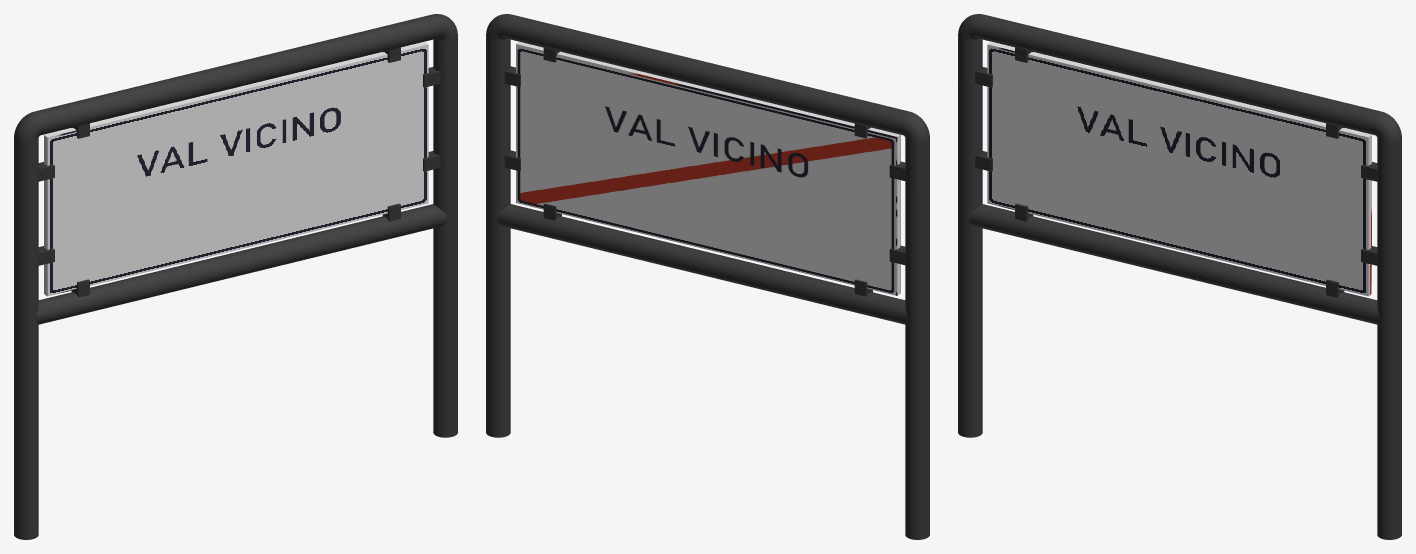
File: ortsschild_vicino.glb
The picture shows the model from 3 angles, left to right: view 1: azimuth 30°, elevation 25°; view 2: azimuth 150°, elevation 25°; view 3: azimuth 330°, elevation 25°; orthographic projection.
Parts seen in each view (by area): view 1: Plane, Cylinder, Cube, Cube.004; view 2: Plane.001, Cylinder, Cube, Cube.004; view 3: Plane, Cylinder, Cube, Cube.004.
Boxes of the visible parts, x1,y1,x2,y2 form: Plane: [48, 46, 427, 295]; Cylinder: [14, 14, 457, 539]; Cube: [44, 42, 428, 296]; Cube.004: [38, 47, 440, 297]; Plane.001: [516, 46, 895, 295]; Cylinder: [486, 14, 929, 539]; Cube: [516, 41, 900, 295]; Cube.004: [504, 48, 905, 296]; Plane: [988, 46, 1367, 295]; Cylinder: [958, 14, 1401, 539]; Cube: [987, 42, 1371, 296]; Cube.004: [975, 47, 1377, 297].
Size of the model in its own units: 7.85 by 7.15 by 0.3817.
4 materials, 2 textured.
